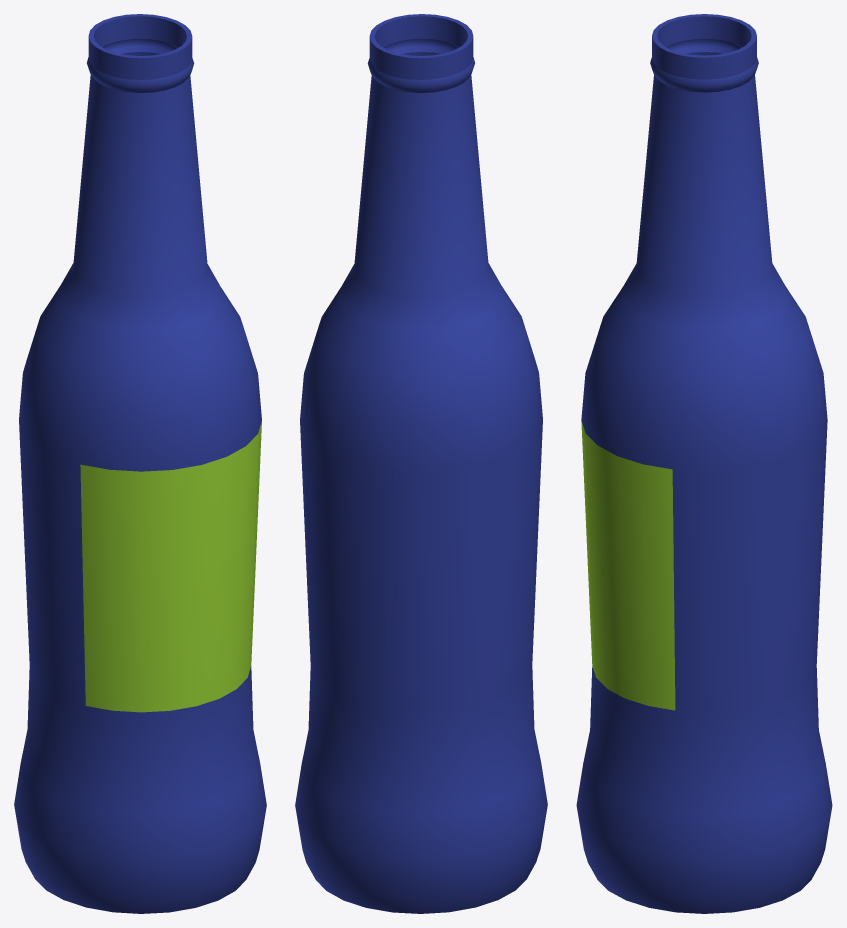
Rendered from next_bottle.fbx.
3 renders of one model, left to right at view 1: azimuth 30°, elevation 25°; view 2: azimuth 150°, elevation 25°; view 3: azimuth 270°, elevation 25°, orthographic.
Visible parts, largest first — view 1: Bottle.001; view 2: Bottle.001; view 3: Bottle.001.
Boxes of the visible parts, left/top/right/bottom form: Bottle.001: left=14, top=14, right=266, bottom=913; Bottle.001: left=295, top=14, right=547, bottom=913; Bottle.001: left=576, top=14, right=832, bottom=913.
Bounding box in the file's own units: 0.2419 × 0.8813 × 0.2458.
